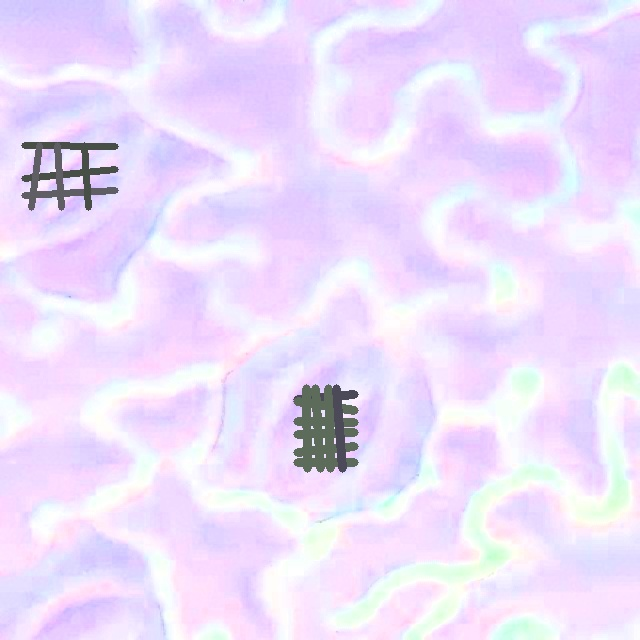close: (293, 384, 358, 472)
open: (21, 142, 118, 210)
